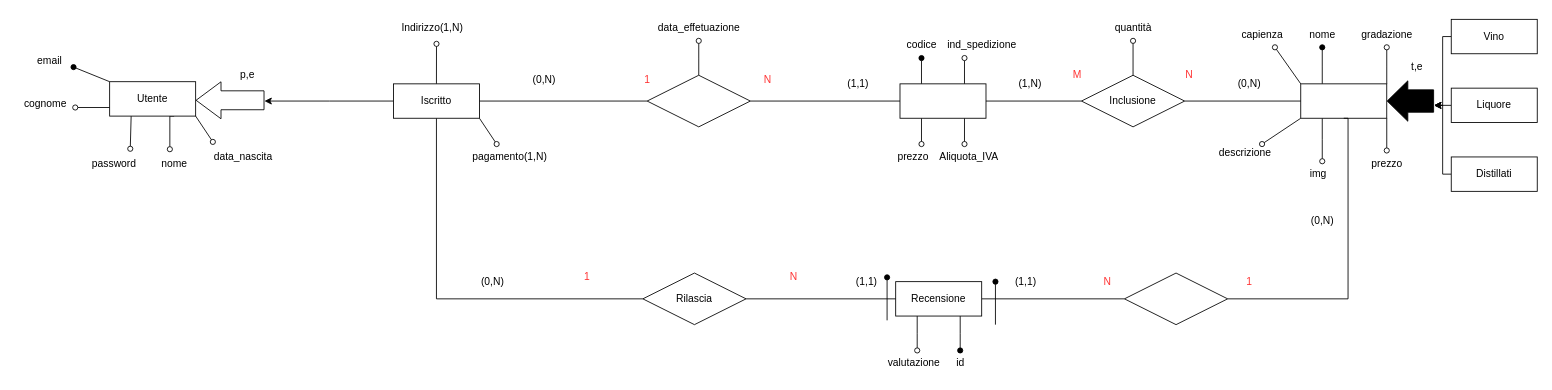
The diagram is 1552 pixels wide and 390 high, and some of its shapes have lost their labels. The shapes that lost their labels are listed below. From the top down, each one's box as (x1, y1, x2, y2) in pixels, then its label:
(646, 74, 750, 127): Effetuazione
(899, 83, 986, 118): Ordine
(1300, 83, 1387, 118): Alcolici
(1124, 272, 1228, 325): Riferimento
